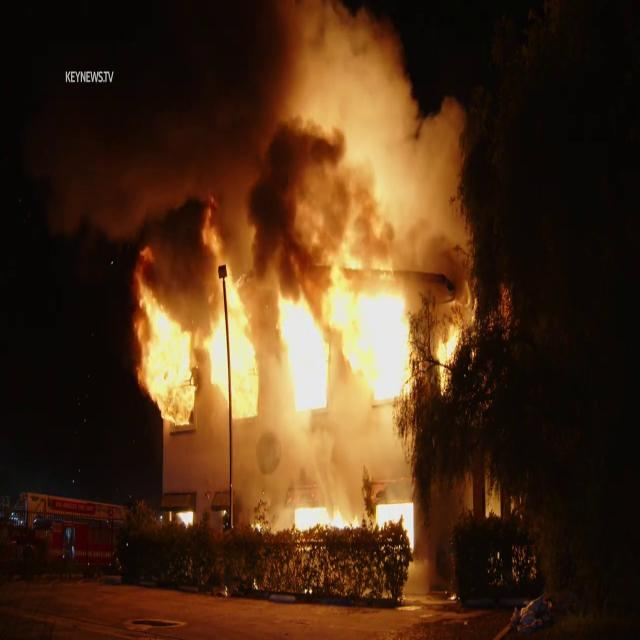Fire: (103, 3, 475, 534), (134, 228, 464, 533)
